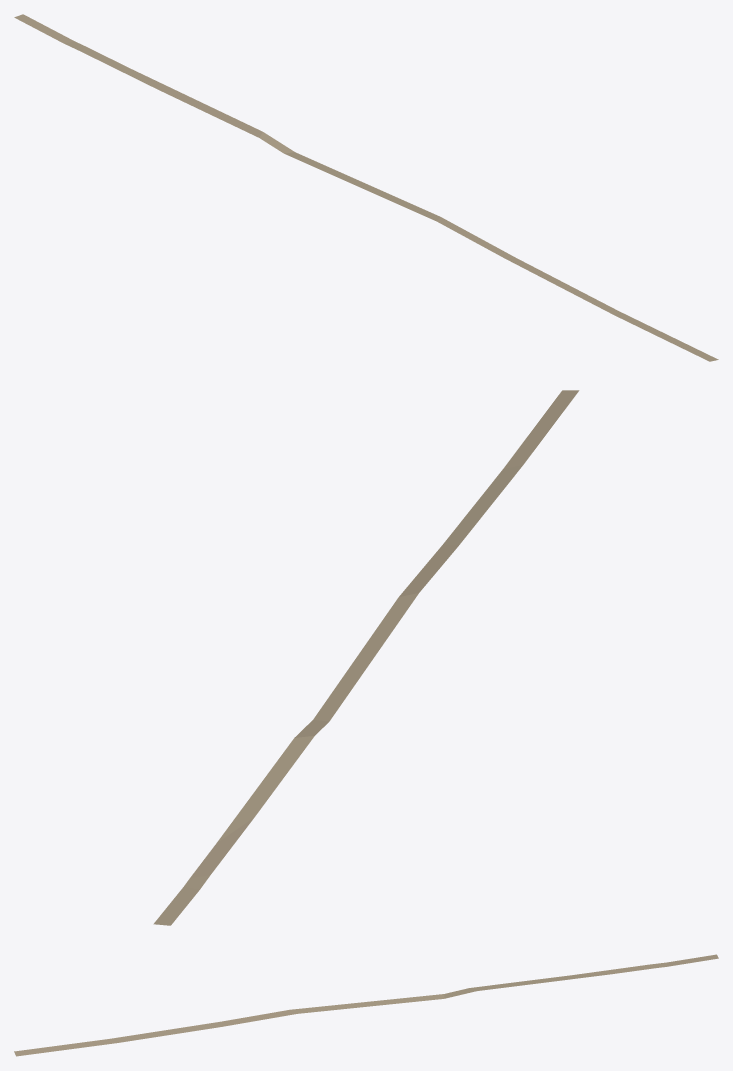
The model's file is farm_-26_-42_track.glb.
The picture shows the model from 3 angles, top to bottom: view 1: azimuth 30°, elevation 25°; view 2: azimuth 150°, elevation 25°; view 3: azimuth 270°, elevation 25°; orthographic projection. The views are drawn at different scales.
Parts seen in each view (by area): view 1: geometry_0; view 2: geometry_0; view 3: geometry_0.
Part boxes in pixels (x1,y1,x2,y2): geometry_0: (14, 14, 718, 361); geometry_0: (153, 390, 579, 925); geometry_0: (14, 954, 718, 1056).
Size of the model in its own units: 64.16 by 10.52 by 253.
